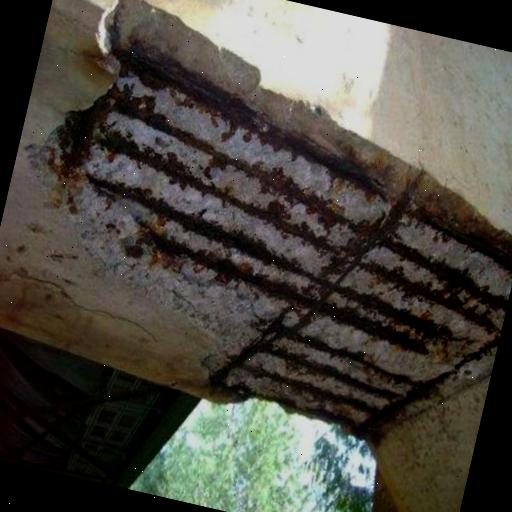spalling: (42, 0, 512, 439)
